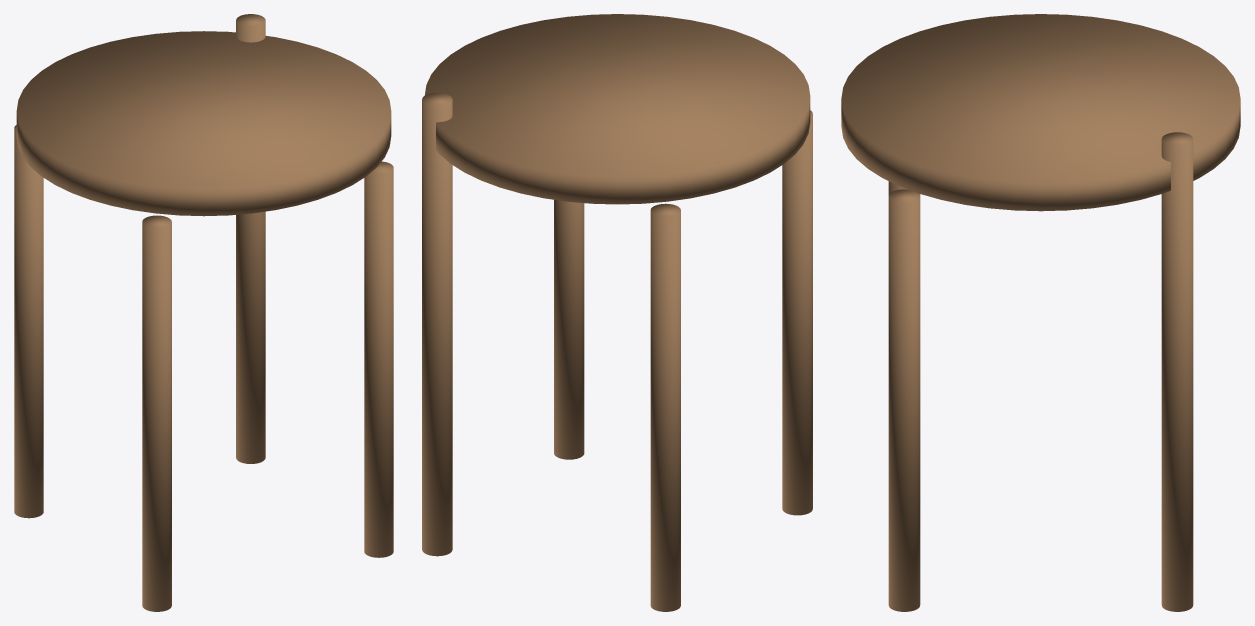
File: stool-before.glb
3 views of the same model, side by side, from view 1: azimuth 30°, elevation 25°; view 2: azimuth 150°, elevation 25°; view 3: azimuth 270°, elevation 25° (orthographic). The views are drawn at different scales.
Visible parts, largest first — view 1: seat, leg3, leg2, leg1, leg0; view 2: seat, leg0, leg1, leg3, leg2; view 3: seat, leg0, leg2.
Boxes of the visible parts, left/top/right/bottom form: seat: left=16, top=31, right=391, bottom=216; leg3: left=142, top=215, right=171, bottom=611; leg2: left=364, top=161, right=393, bottom=557; leg1: left=14, top=125, right=43, bottom=518; leg0: left=236, top=14, right=265, bottom=463; seat: left=424, top=14, right=810, bottom=204; leg0: left=422, top=93, right=452, bottom=556; leg1: left=650, top=203, right=680, bottom=611; leg3: left=782, top=110, right=812, bottom=515; leg2: left=554, top=200, right=584, bottom=459; seat: left=841, top=14, right=1240, bottom=211; leg0: left=1161, top=132, right=1193, bottom=611; leg2: left=888, top=189, right=920, bottom=611.
Bounding box in the file's own units: 0.38 × 0.49 × 0.38.
